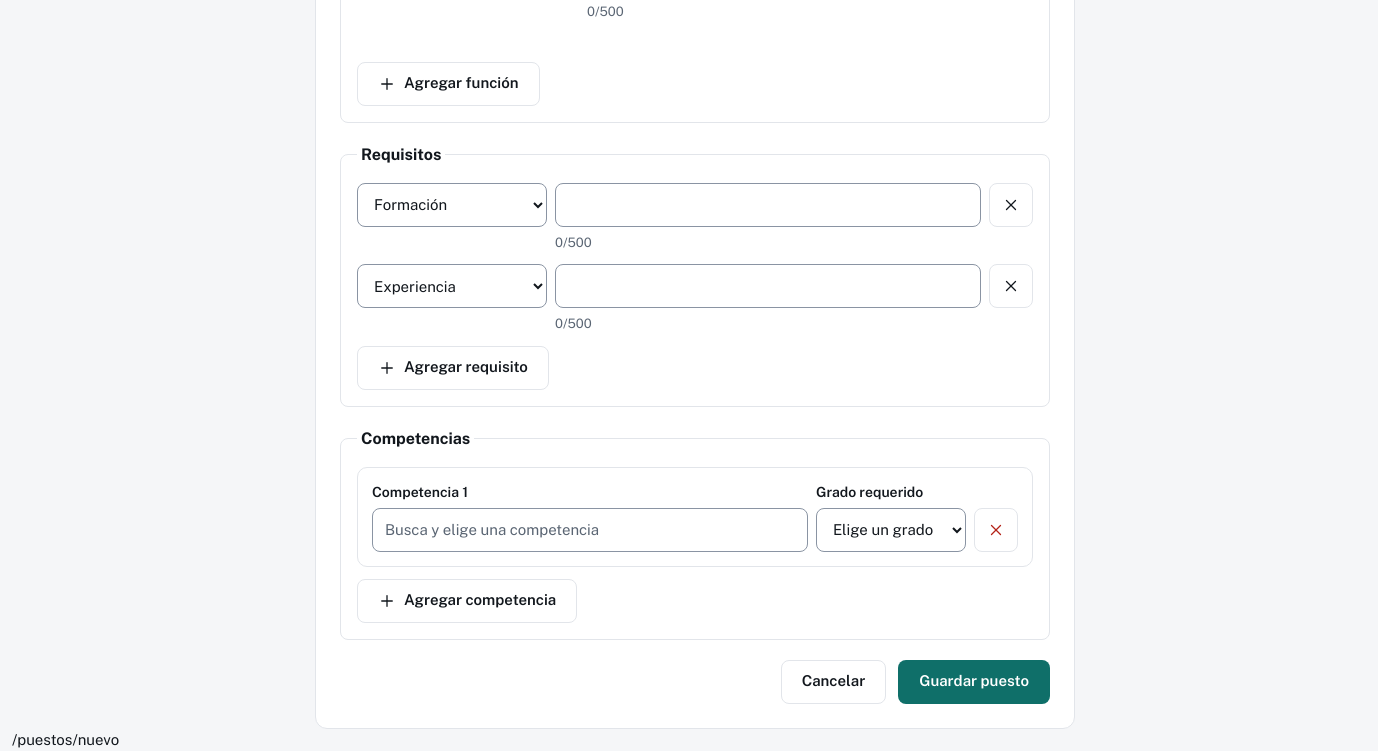
Scenario: PuestoFormPage (crear) › con el formulario incompleto muestra el aviso general y los errores junto a cada campo, sin enviar nada
(page scrolled)
Click the button "Guardar puesto" at (974, 682), box [898,660,1050,704]
(page scrolled)
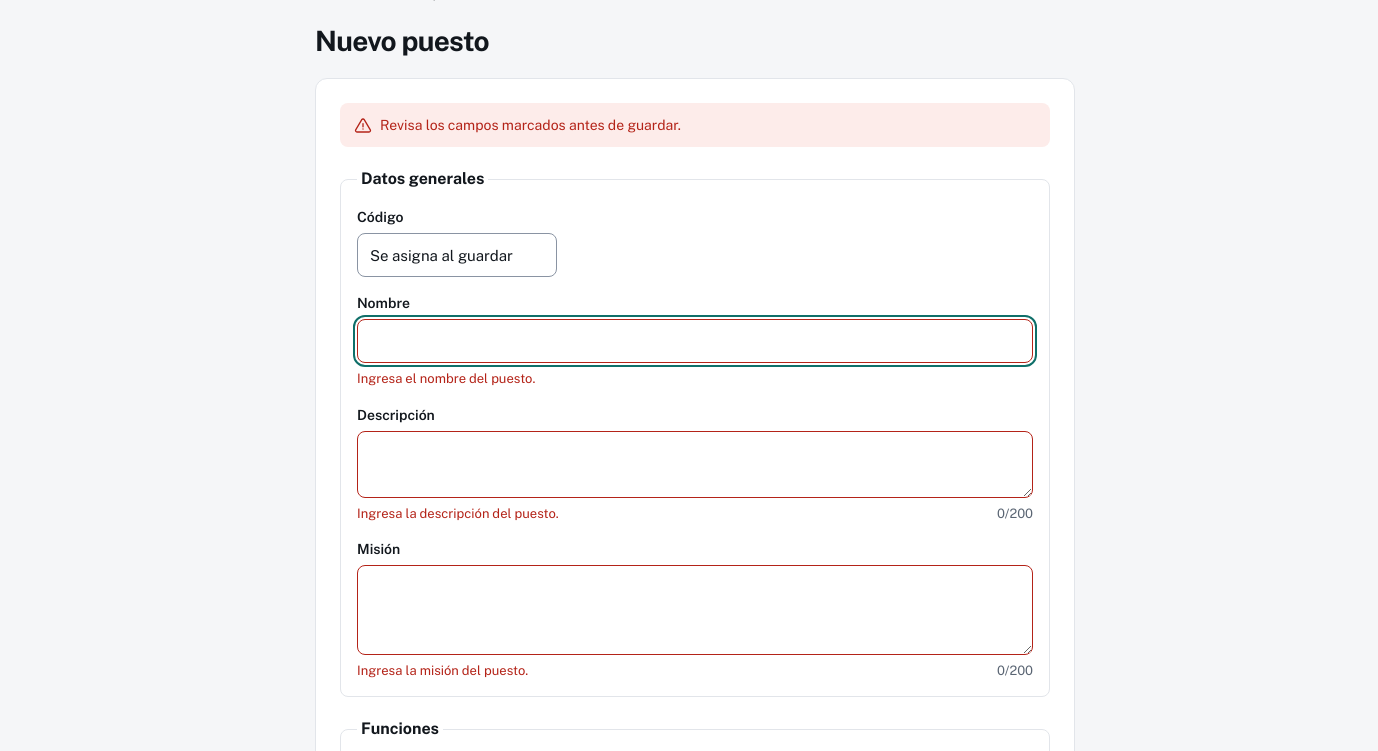
Now the text "Revisa los campos marcados antes de guardar." is shown, box [380,115,681,135]
Now the text "Ingresa el nombre del puesto." is shown, box [357,371,535,386]
Now the text "Ingresa la descripción del puesto." is shown, box [357,504,559,523]
